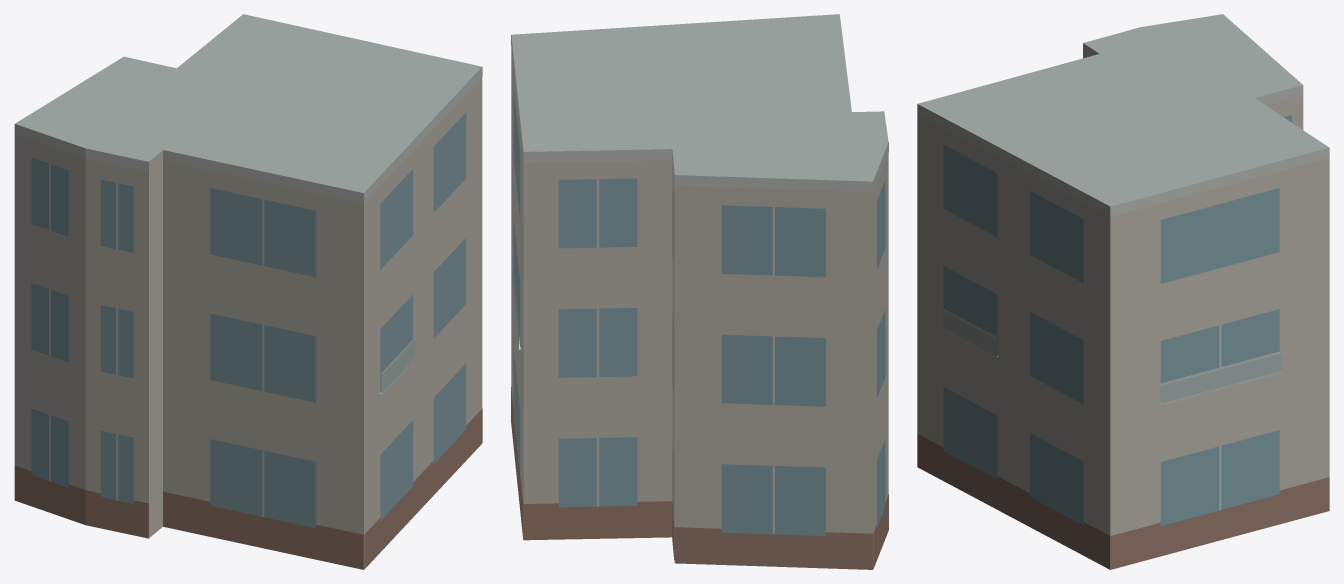
The model's file is survey-upis-32487095.glb.
The picture shows the model from 3 angles, left to right: view 1: azimuth 30°, elevation 25°; view 2: azimuth 150°, elevation 25°; view 3: azimuth 270°, elevation 25°; orthographic projection. The views are drawn at different scales.
Parts seen in each view (by area): view 1: survey-upis-32487095.tmp; view 2: survey-upis-32487095.tmp; view 3: survey-upis-32487095.tmp.
Part boxes in pixels (<box>): survey-upis-32487095.tmp: <box>14,14,482,569</box>; survey-upis-32487095.tmp: <box>511,14,888,569</box>; survey-upis-32487095.tmp: <box>917,14,1329,569</box>.
Bounding box in the file's own units: 10.02 × 8.8 × 9.06.
